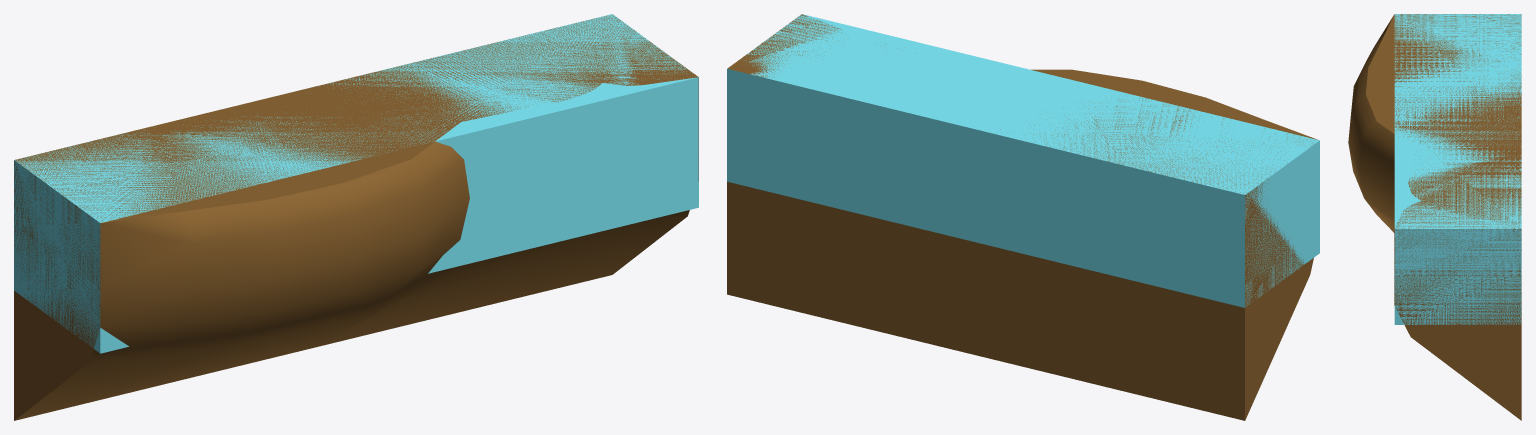
The model's file is PBOX_Mud_BOD_003.FBX.
The picture shows the model from 3 angles, left to right: view 1: azimuth 30°, elevation 25°; view 2: azimuth 150°, elevation 25°; view 3: azimuth 270°, elevation 25°; orthographic projection. The views are drawn at different scales.
Parts seen in each view (by area): view 1: PBOX2_SUB_Mud_BOD_003, PBOX2_Mud_BOD_002; view 2: PBOX2_Mud_BOD_002, PBOX2_SUB_Mud_BOD_003; view 3: PBOX2_SUB_Mud_BOD_003, PBOX2_Mud_BOD_002.
Boxes of the visible parts, left/top/right/bottom form: PBOX2_SUB_Mud_BOD_003: left=14, top=15, right=698, bottom=420; PBOX2_Mud_BOD_002: left=14, top=14, right=698, bottom=353; PBOX2_Mud_BOD_002: left=727, top=14, right=1319, bottom=307; PBOX2_SUB_Mud_BOD_003: left=727, top=14, right=1317, bottom=420; PBOX2_SUB_Mud_BOD_003: left=1348, top=14, right=1521, bottom=420; PBOX2_Mud_BOD_002: left=1394, top=14, right=1521, bottom=324.
Size of the model in its own units: 12 by 5 by 4.09.
